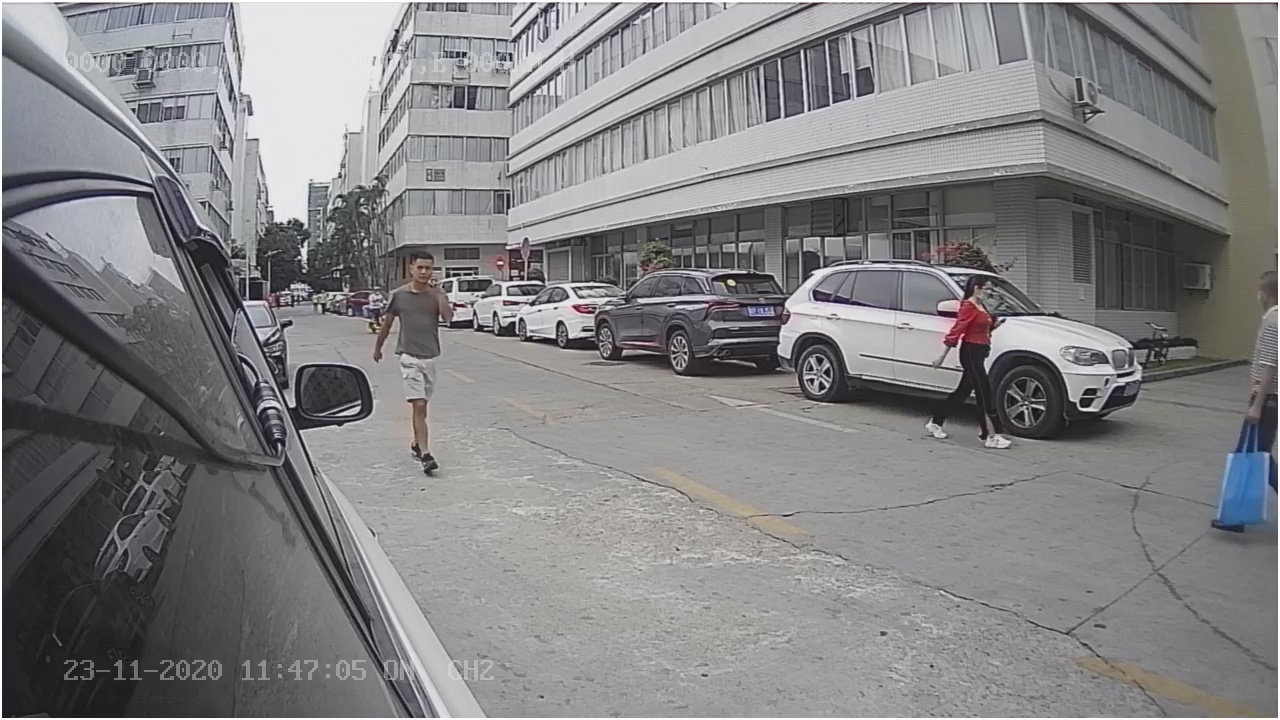person: (371, 247, 457, 478), (917, 270, 1017, 458)
